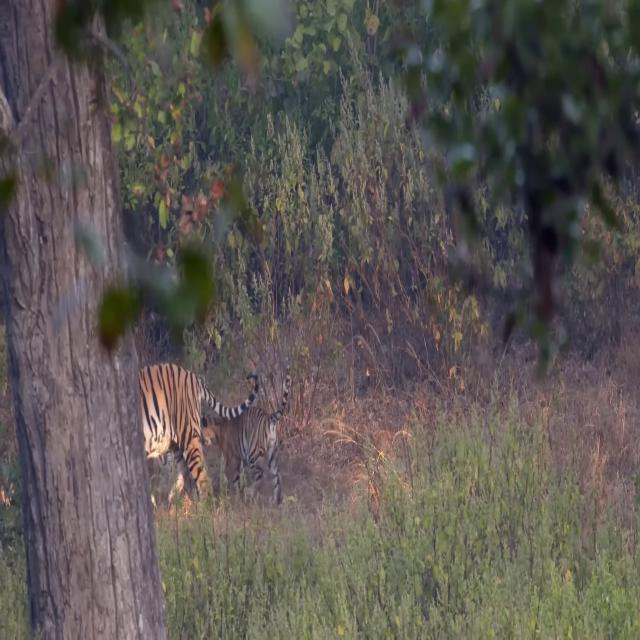tiger: (202, 354, 292, 510)
